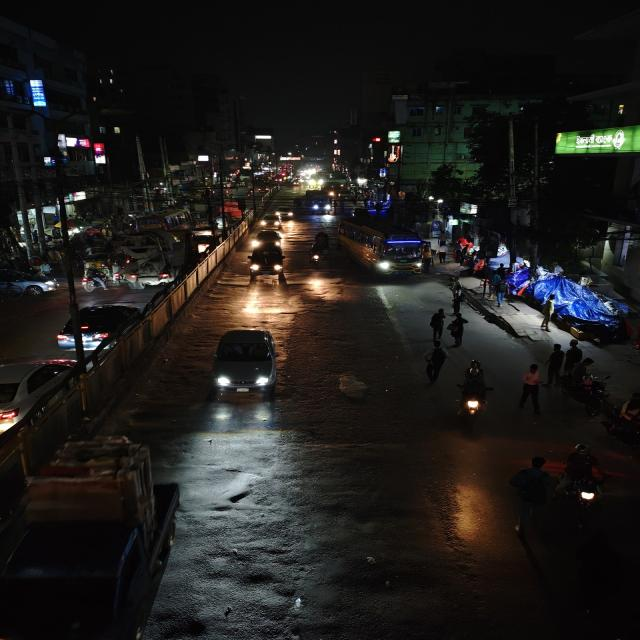bus: (335, 215, 427, 279), (302, 189, 332, 218)
car: (0, 353, 77, 438), (208, 324, 283, 402), (53, 298, 148, 352), (246, 246, 290, 280), (248, 228, 286, 248), (257, 213, 284, 230), (274, 208, 295, 220)
motorcycle: (556, 442, 612, 516), (452, 364, 495, 427), (602, 389, 640, 460), (308, 231, 328, 269), (79, 272, 110, 292)
pedestrian: (508, 453, 556, 536), (514, 362, 546, 414), (423, 342, 449, 384), (544, 344, 566, 386), (447, 314, 468, 348), (563, 340, 584, 374), (426, 307, 446, 341), (448, 285, 469, 315)
pickup_van: (0, 434, 185, 640)
rickshaw: (600, 389, 640, 462)
truck: (125, 227, 182, 290)
